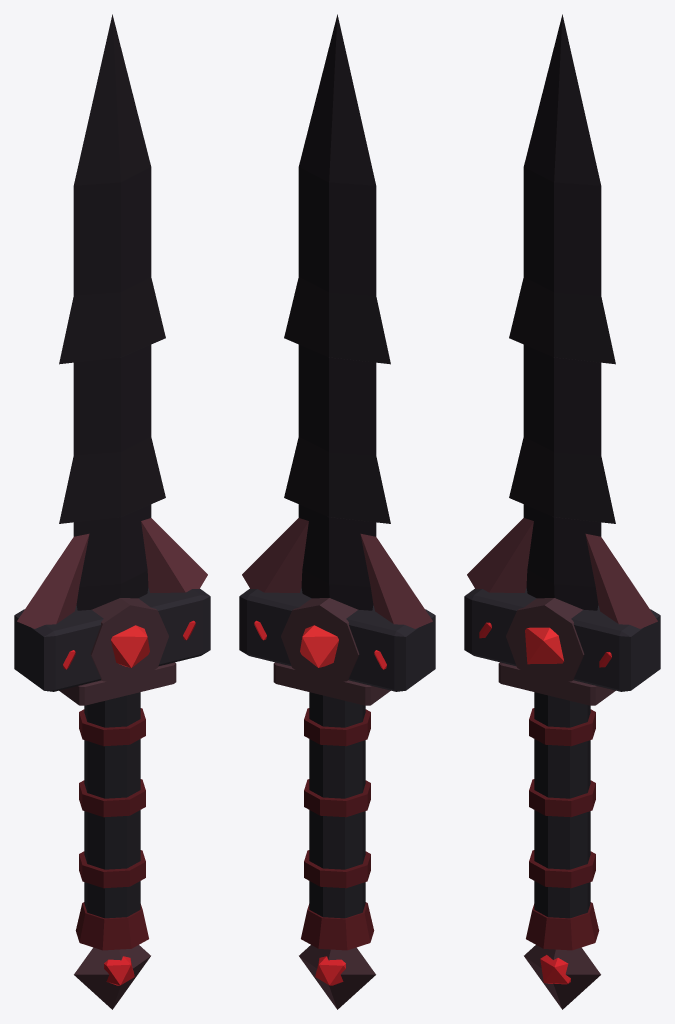
File: Sword_Phase2.fbx
3 views of the same model, side by side, from view 1: azimuth 30°, elevation 25°; view 2: azimuth 150°, elevation 25°; view 3: azimuth 330°, elevation 25° (orthographic).
Parts seen in each view (by area): view 1: Sword_Phase2_Blade, Sword_Phase2_Grip, Sword_Phase2_Guard, Sword_Phase2_Trim, Sword_Phase2_Band, Sword_Phase2_Horn, Sword_Phase2_Eye, Sword_Phase2_Glow; view 2: Sword_Phase2_Blade, Sword_Phase2_Grip, Sword_Phase2_Guard, Sword_Phase2_Trim, Sword_Phase2_Band, Sword_Phase2_Horn, Sword_Phase2_Eye, Sword_Phase2_Glow; view 3: Sword_Phase2_Blade, Sword_Phase2_Grip, Sword_Phase2_Guard, Sword_Phase2_Trim, Sword_Phase2_Band, Sword_Phase2_Horn, Sword_Phase2_Eye, Sword_Phase2_Glow.
Part boxes in pixels (x1=…): Sword_Phase2_Blade: x1=59, y1=14, x2=165, y2=610; Sword_Phase2_Grip: x1=84, y1=692, x2=140, y2=918; Sword_Phase2_Guard: x1=14, y1=587, x2=210, y2=691; Sword_Phase2_Trim: x1=59, y1=598, x2=176, y2=1009; Sword_Phase2_Band: x1=75, y1=708, x2=148, y2=950; Sword_Phase2_Horn: x1=17, y1=518, x2=207, y2=628; Sword_Phase2_Eye: x1=111, y1=625, x2=149, y2=667; Sword_Phase2_Glow: x1=63, y1=620, x2=195, y2=985; Sword_Phase2_Blade: x1=284, y1=14, x2=390, y2=610; Sword_Phase2_Grip: x1=309, y1=692, x2=365, y2=918; Sword_Phase2_Guard: x1=239, y1=587, x2=435, y2=691; Sword_Phase2_Trim: x1=273, y1=598, x2=390, y2=1009; Sword_Phase2_Band: x1=301, y1=708, x2=374, y2=950; Sword_Phase2_Horn: x1=242, y1=518, x2=432, y2=628; Sword_Phase2_Eye: x1=300, y1=625, x2=338, y2=667; Sword_Phase2_Glow: x1=254, y1=620, x2=386, y2=985; Sword_Phase2_Blade: x1=509, y1=14, x2=615, y2=610; Sword_Phase2_Grip: x1=534, y1=692, x2=590, y2=918; Sword_Phase2_Guard: x1=464, y1=587, x2=660, y2=691; Sword_Phase2_Trim: x1=498, y1=598, x2=615, y2=1009; Sword_Phase2_Band: x1=526, y1=708, x2=599, y2=950; Sword_Phase2_Horn: x1=467, y1=518, x2=657, y2=628; Sword_Phase2_Eye: x1=525, y1=627, x2=563, y2=664; Sword_Phase2_Glow: x1=479, y1=622, x2=611, y2=984.
Bounding box in the file's own units: 0.9873 × 4.91 × 0.4849.
